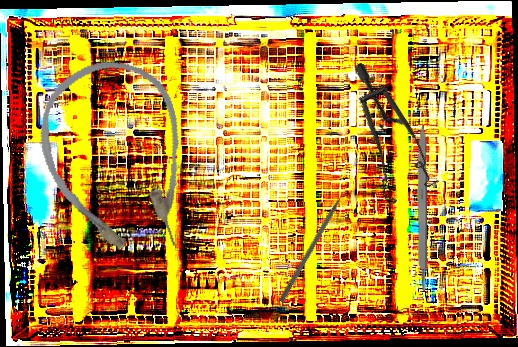Cannula: (23, 45, 211, 277)
Pusher: (278, 181, 353, 304)
Scalpel Handle: (416, 125, 427, 290)
Speculum: (299, 61, 466, 221)
